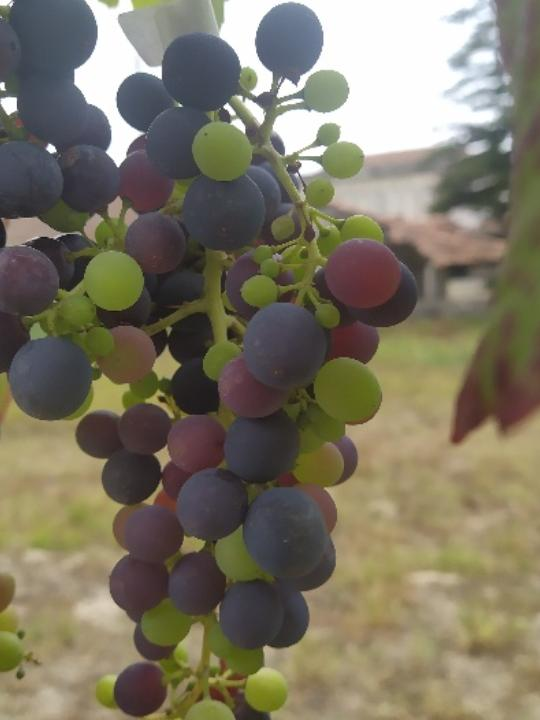grape: (0, 0, 423, 720)
